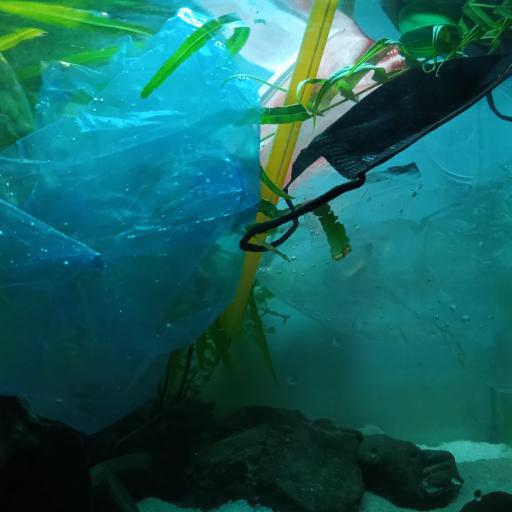bottle_cap: (398, 12, 461, 60)
mask: (241, 50, 512, 256), (254, 22, 410, 186)
plastic_bag: (2, 13, 265, 434), (261, 161, 512, 389)
plastic_cup: (428, 88, 512, 191)
plastic_straw: (218, 0, 338, 339)
